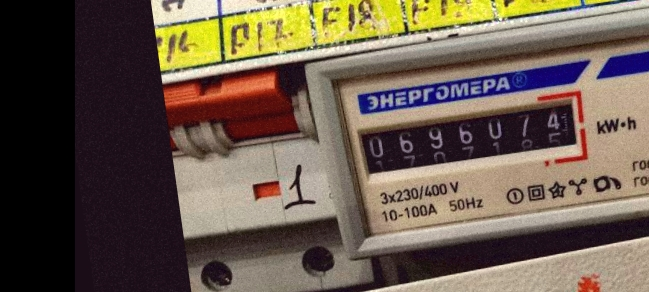0: (364, 132, 386, 159), (485, 114, 504, 141)
4: (542, 106, 561, 130)
5: (547, 130, 565, 147)
6: (456, 118, 477, 146), (396, 128, 416, 154)
7: (515, 110, 535, 138)
9: (426, 123, 445, 151)
screen: (346, 85, 593, 186)
